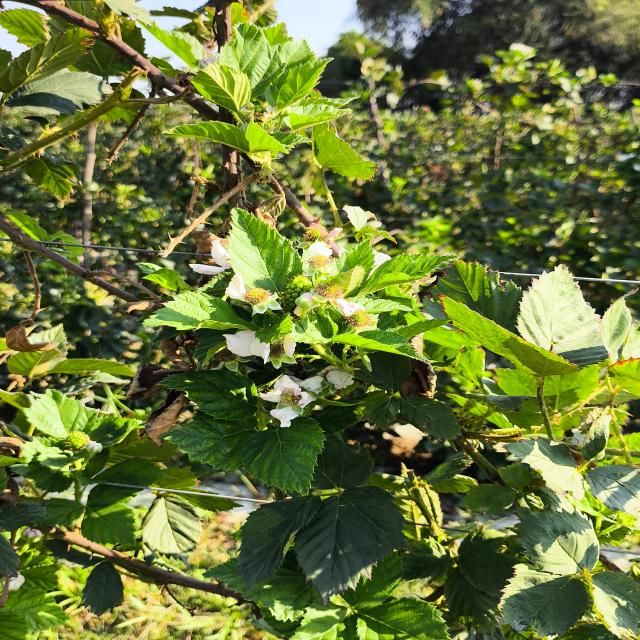flor: (258, 375, 314, 427), (223, 330, 255, 357), (325, 366, 354, 389)
verde: (281, 275, 312, 312)
